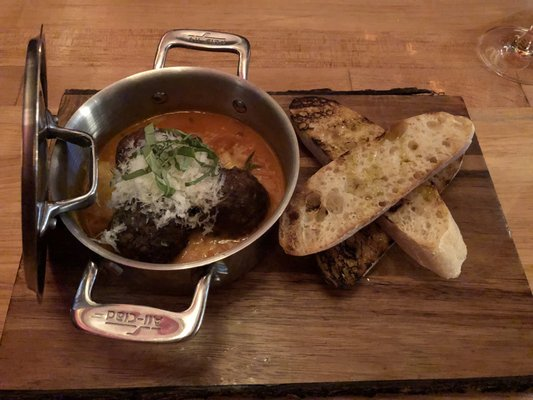salad: (27, 24, 98, 303)
soup: (280, 111, 474, 274), (378, 182, 468, 280)
sushi: (39, 65, 301, 298)
